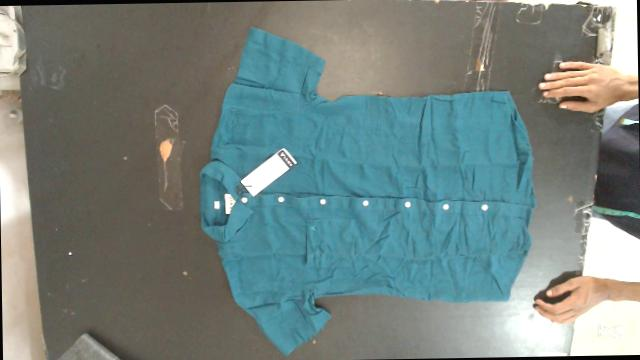new-garment: (201, 27, 535, 354)
